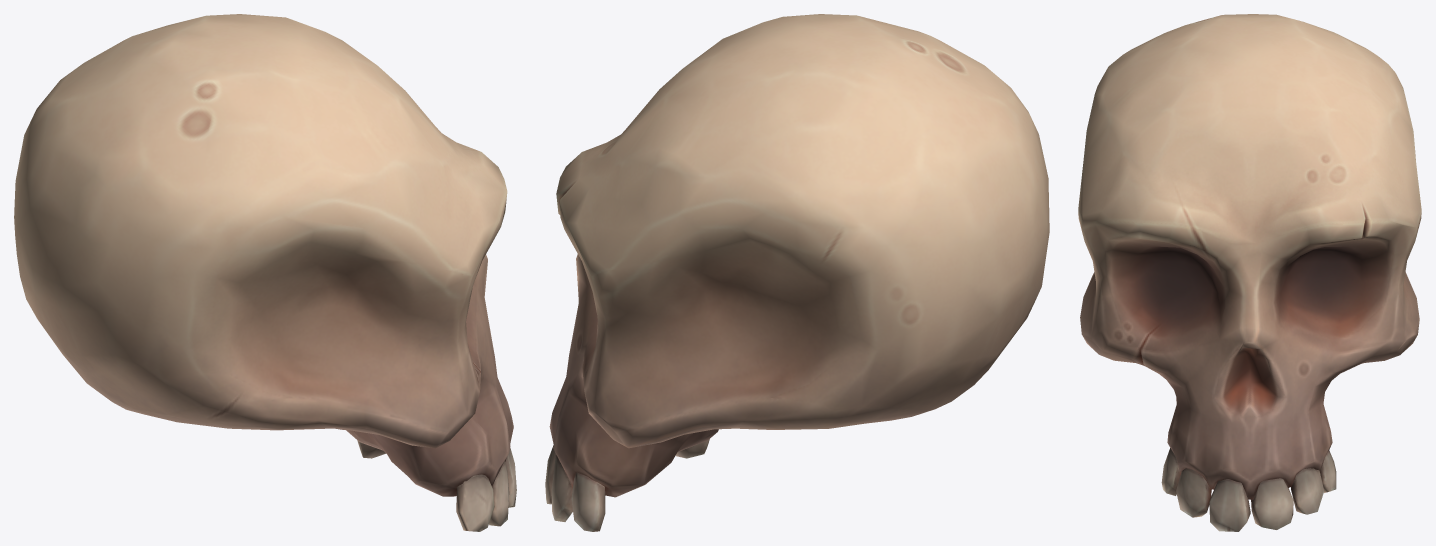
The model's file is SM_Skull.fbx.
The picture shows the model from 3 angles, left to right: view 1: azimuth 30°, elevation 25°; view 2: azimuth 150°, elevation 25°; view 3: azimuth 270°, elevation 25°; orthographic projection. The views are drawn at different scales.
Parts seen in each view (by area): view 1: SM_Skull_LOD0; view 2: SM_Skull_LOD0; view 3: SM_Skull_LOD0.
Part boxes in pixels (x1=…): SM_Skull_LOD0: x1=14, y1=14, x2=516, y2=531; SM_Skull_LOD0: x1=545, y1=14, x2=1049, y2=531; SM_Skull_LOD0: x1=1078, y1=14, x2=1421, y2=531.
Size of the model in its own units: 22.03 by 18.38 by 23.71.
Materials: 1 (1 with a texture image).
